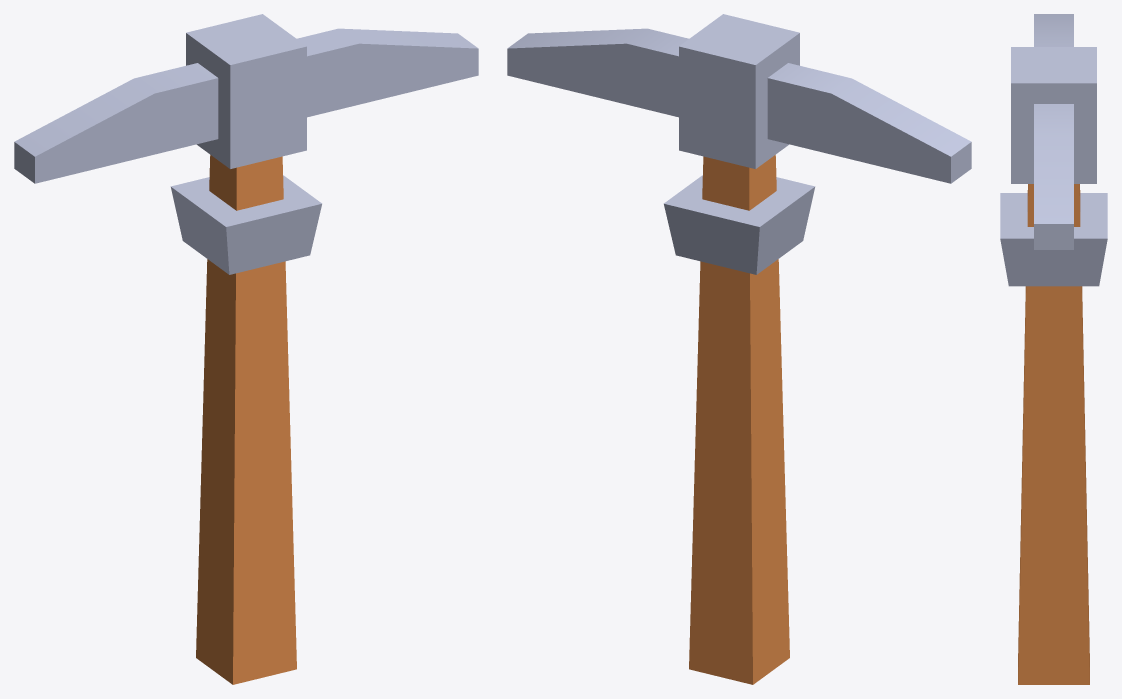
File: wpn-pickaxe.glb
3 renders of one model, left to right at view 1: azimuth 30°, elevation 25°; view 2: azimuth 150°, elevation 25°; view 3: azimuth 270°, elevation 25°, orthographic. The views are drawn at different scales.
Visible parts, largest first — view 1: toolPickaxe; view 2: toolPickaxe; view 3: toolPickaxe.
Part boxes in pixels (x1=…): toolPickaxe: x1=14, y1=14, x2=478, y2=684; toolPickaxe: x1=507, y1=14, x2=971, y2=684; toolPickaxe: x1=1000, y1=14, x2=1107, y2=684.
Size of the model in its own units: 0.1786 by 0.24 by 0.0387.
